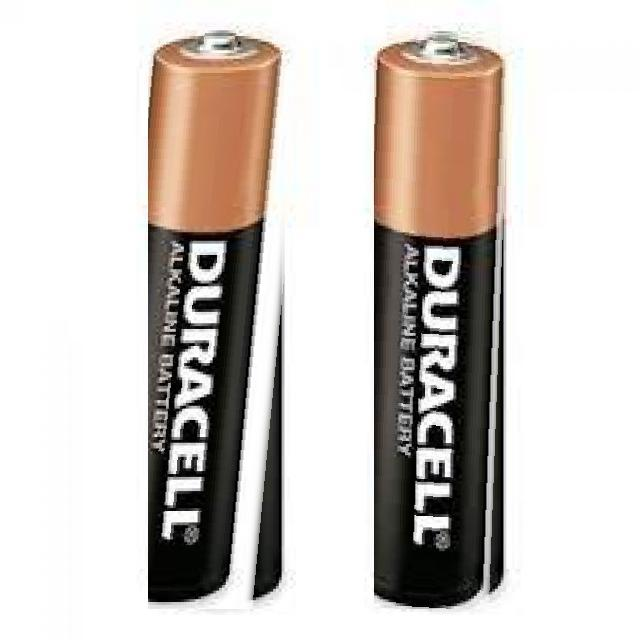battery: (148, 29, 308, 610), (374, 29, 510, 609)
